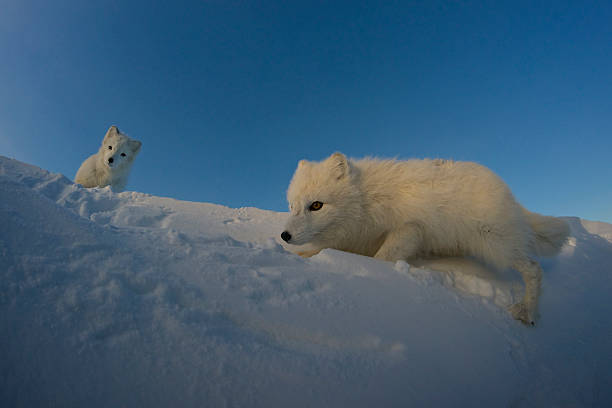arcticfox: (276, 175, 349, 259), (99, 140, 125, 177)
